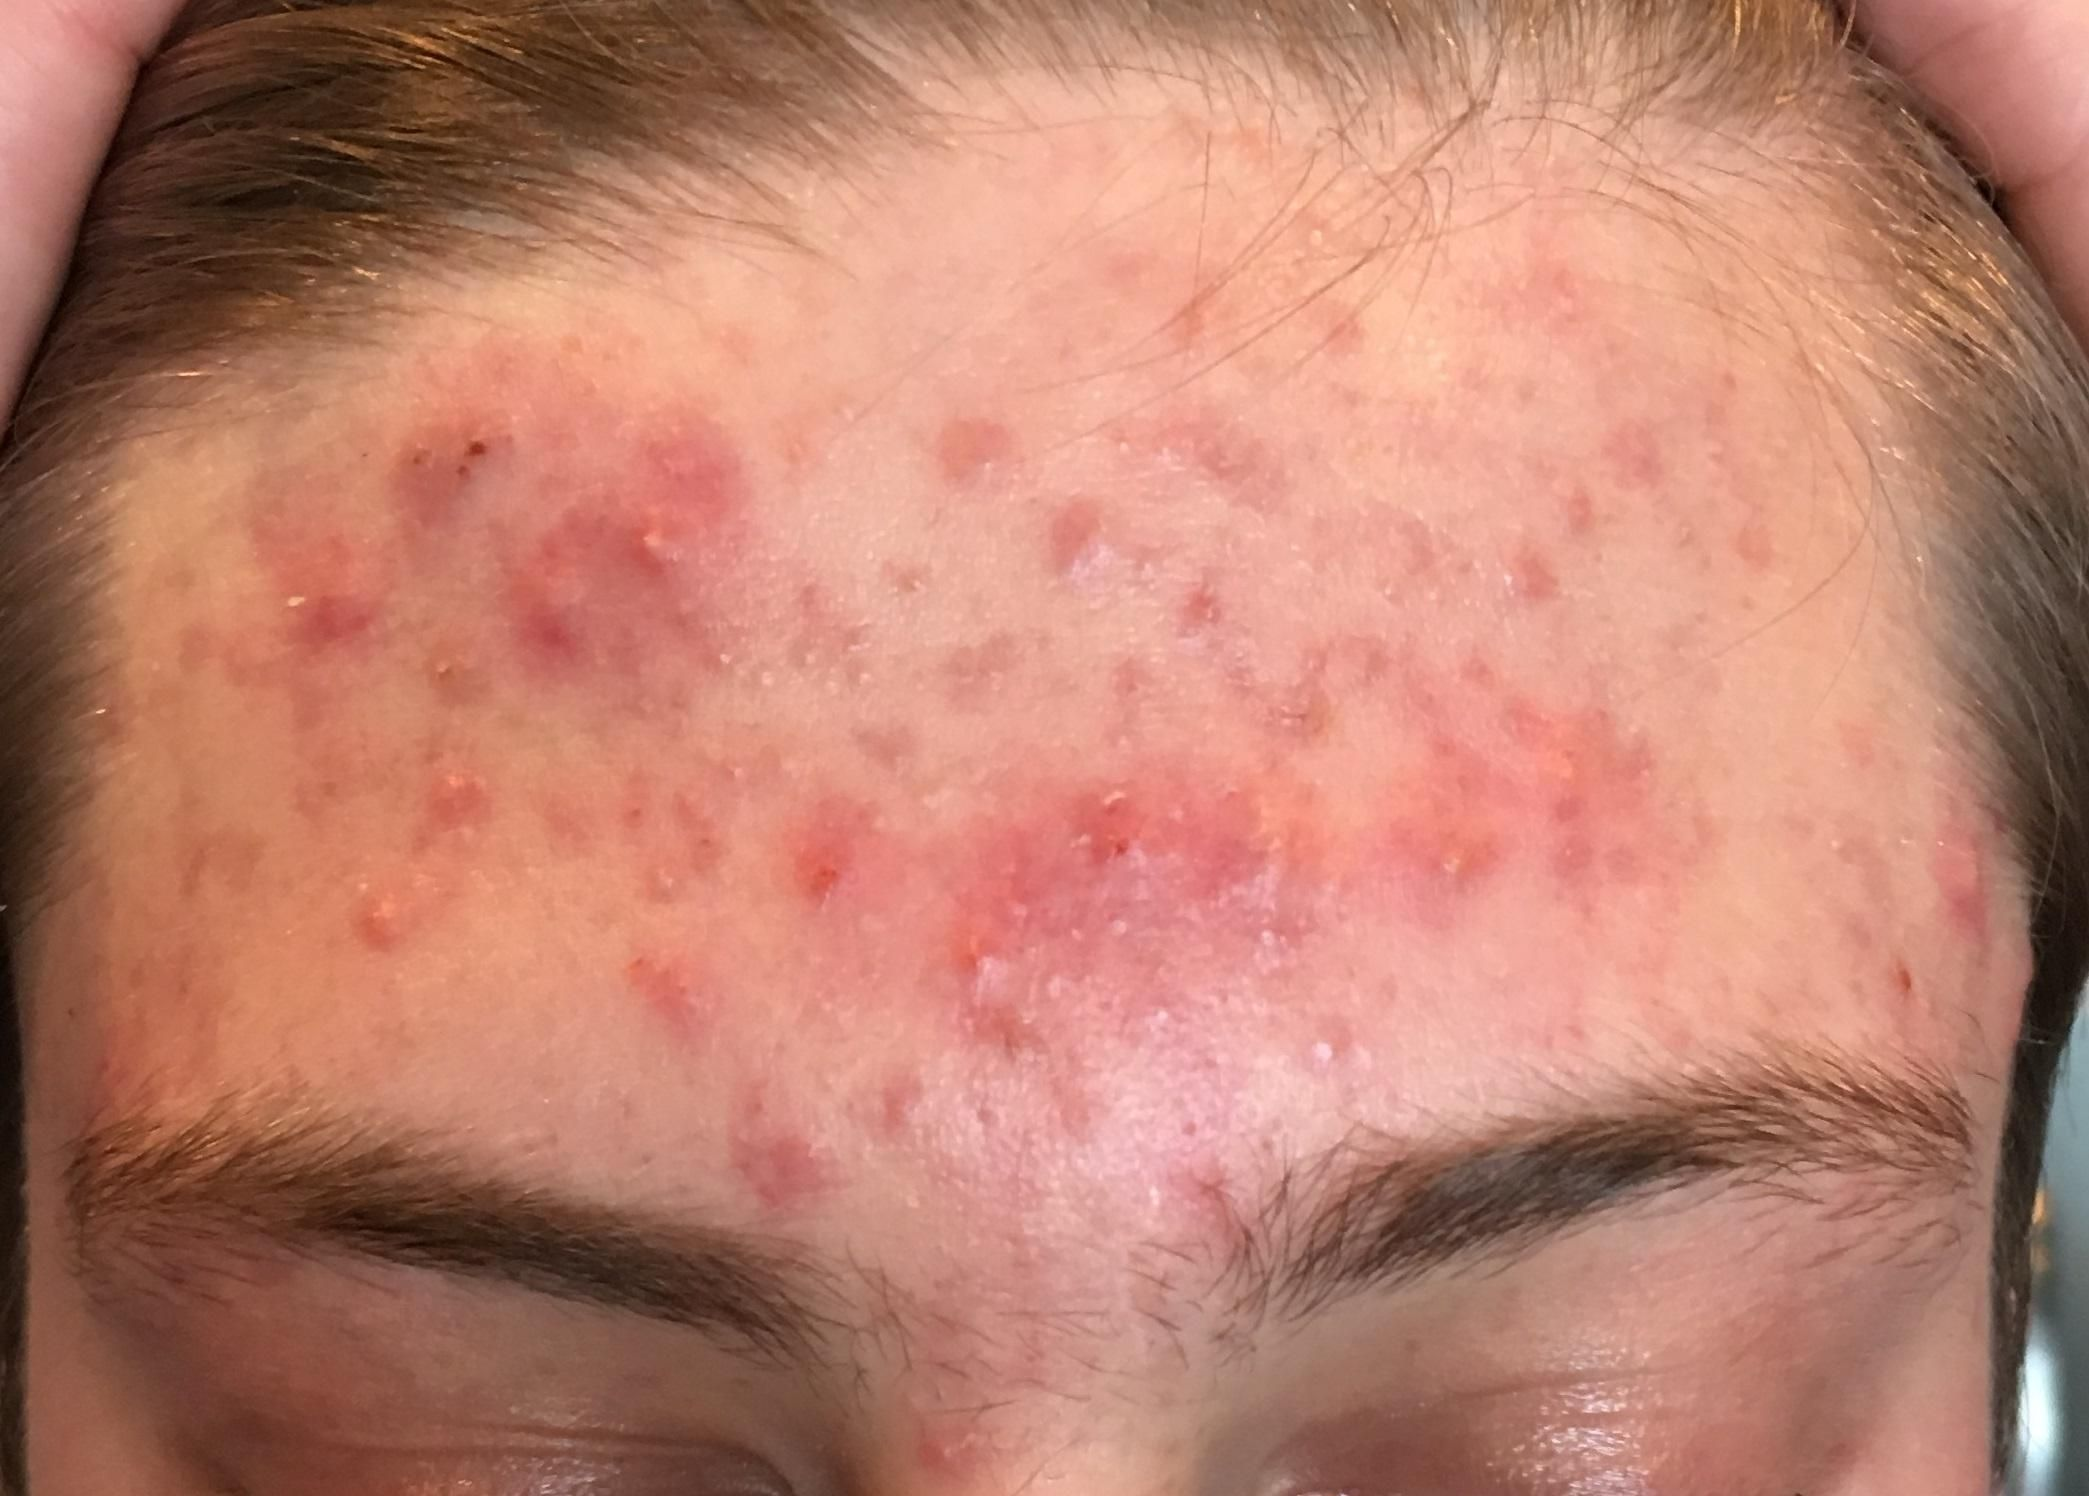jerawat: (174, 211, 1976, 1157)
